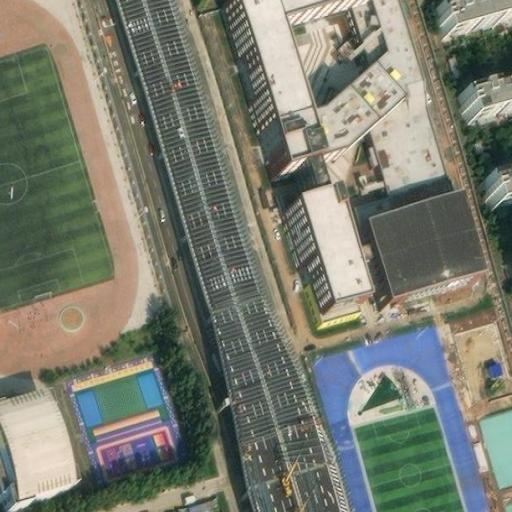building: (351, 0, 448, 201), (371, 181, 487, 287), (0, 373, 91, 497), (289, 192, 356, 308), (477, 403, 512, 487), (482, 168, 512, 207), (177, 498, 217, 512), (483, 358, 504, 380)
